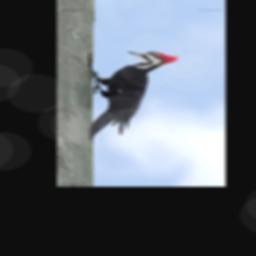Woodpecker: (86, 51, 179, 142)
